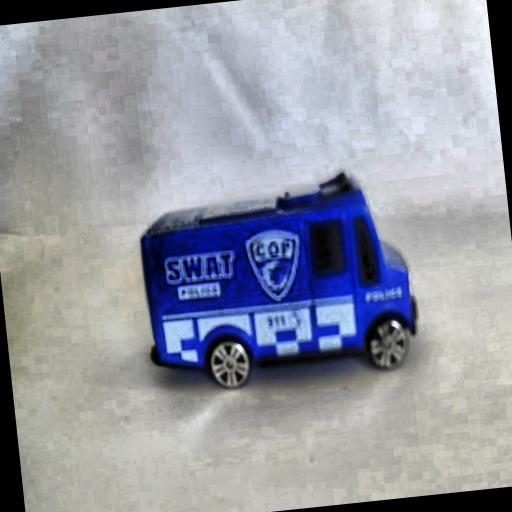police car: (132, 186, 428, 400)
